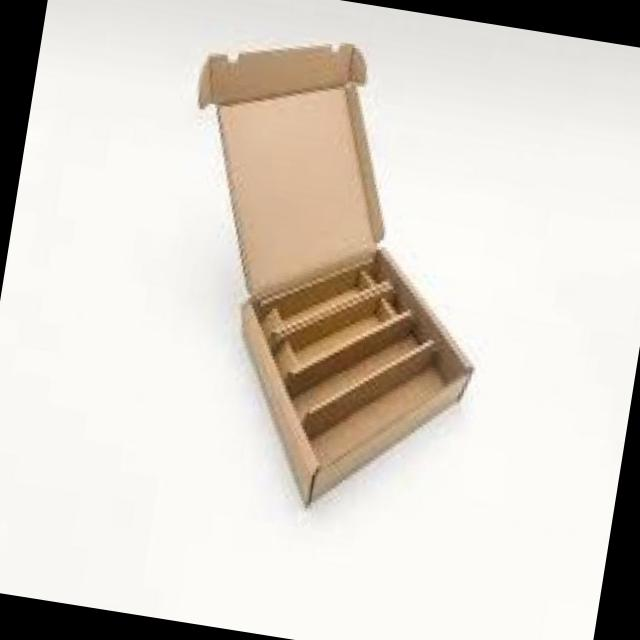cardboard paper: (201, 43, 473, 502)
